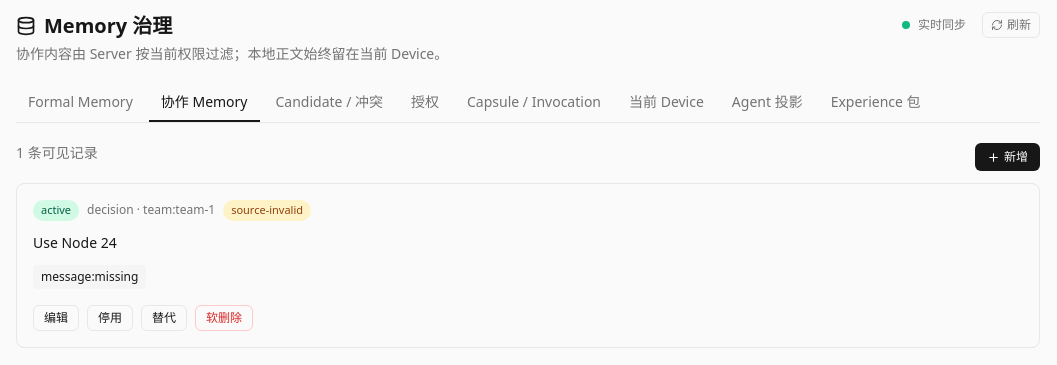
Test: MemoryGovernancePanel › renders collaborative provenance, Capsule/Invocation and Device-only summaries
Expected: the text "Use Node 24" is shown, [33,232,117,252]
Expected: the text "source-invalid" is shown, [223,200,311,220]
Click the button "Capsule / Invocation": (534, 103) [455,84,613,122]
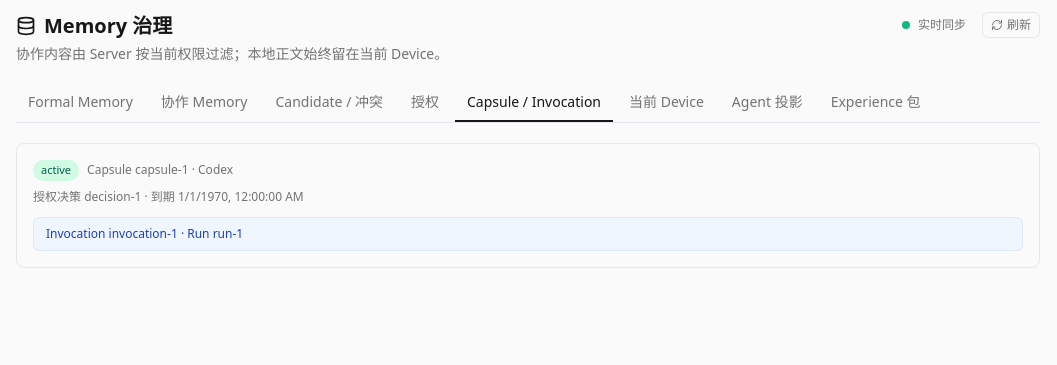
Now the text "Invocation invocation-1 · Run run-1" is shown, box [33,216,1023,250]
Click the button "当前 Device": (666, 103) [617,84,716,122]
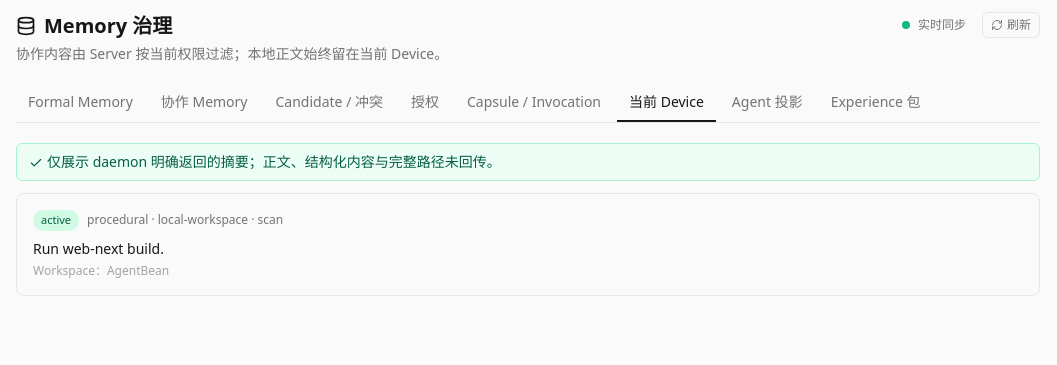
Now the text "Run web-next build." is shown, box [33,238,164,258]
